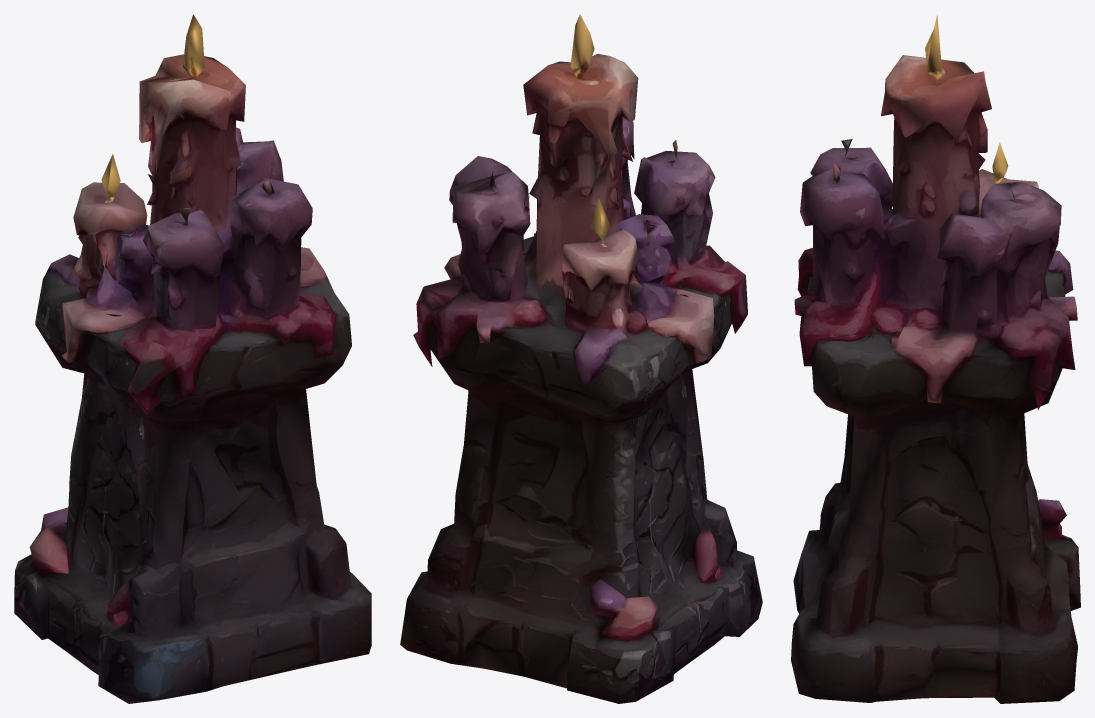
File: hall-candle-pedestal.glb
The picture shows the model from 3 angles, left to right: view 1: azimuth 30°, elevation 25°; view 2: azimuth 150°, elevation 25°; view 3: azimuth 270°, elevation 25°; orthographic projection.
Visible parts, largest first — view 1: tripo_node_98650a44-9d08-49e2-9df9-a6276baf9328; view 2: tripo_node_98650a44-9d08-49e2-9df9-a6276baf9328; view 3: tripo_node_98650a44-9d08-49e2-9df9-a6276baf9328.
Part boxes in pixels (x1,y1,x2,y2): tripo_node_98650a44-9d08-49e2-9df9-a6276baf9328: (14,14,371,703); tripo_node_98650a44-9d08-49e2-9df9-a6276baf9328: (400,14,762,703); tripo_node_98650a44-9d08-49e2-9df9-a6276baf9328: (791,15,1080,703).
Bounding box in the file's own units: 0.4386 × 0.9978 × 0.4173.
1 material, 1 textured.
